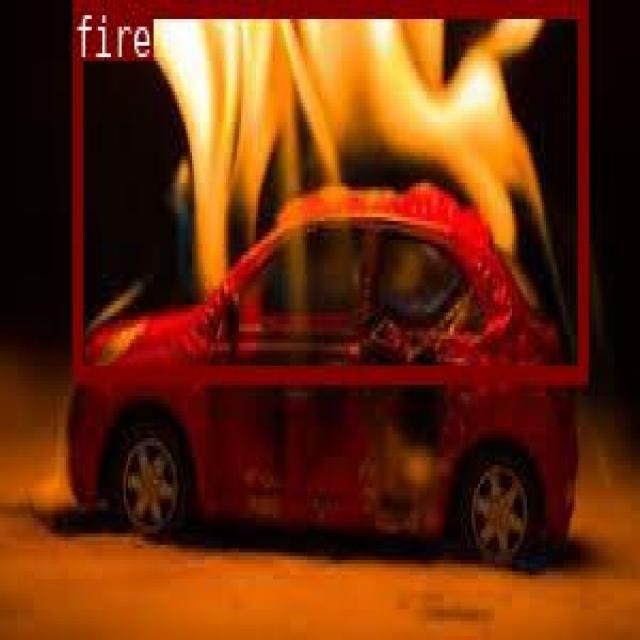fire: (72, 0, 586, 381)
